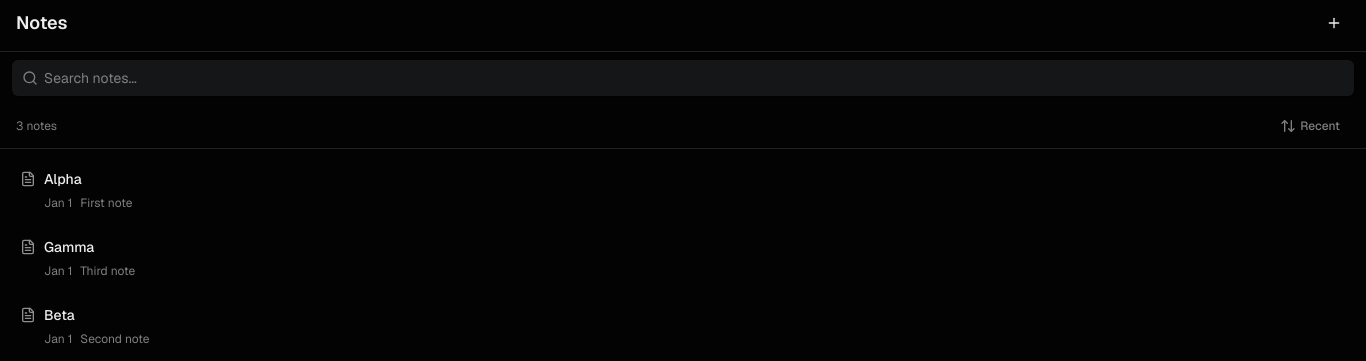
NotesSidebar › searches within content
Type "Second" into the field with placeholder "Search notes..." at {"x": 683, "y": 78}, box [12, 60, 1354, 96]
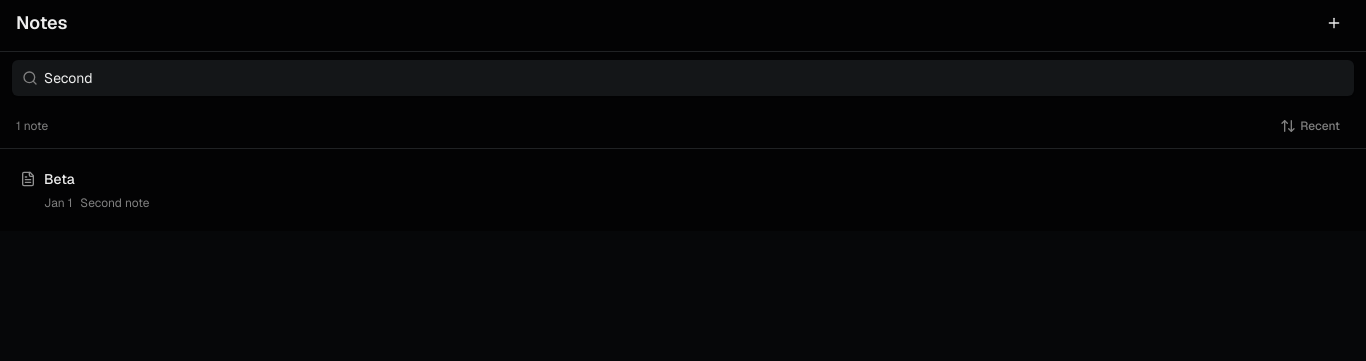
Expected: the text "Beta" is shown, [44, 169, 75, 189]
Expected: the text "Alpha" is gone
